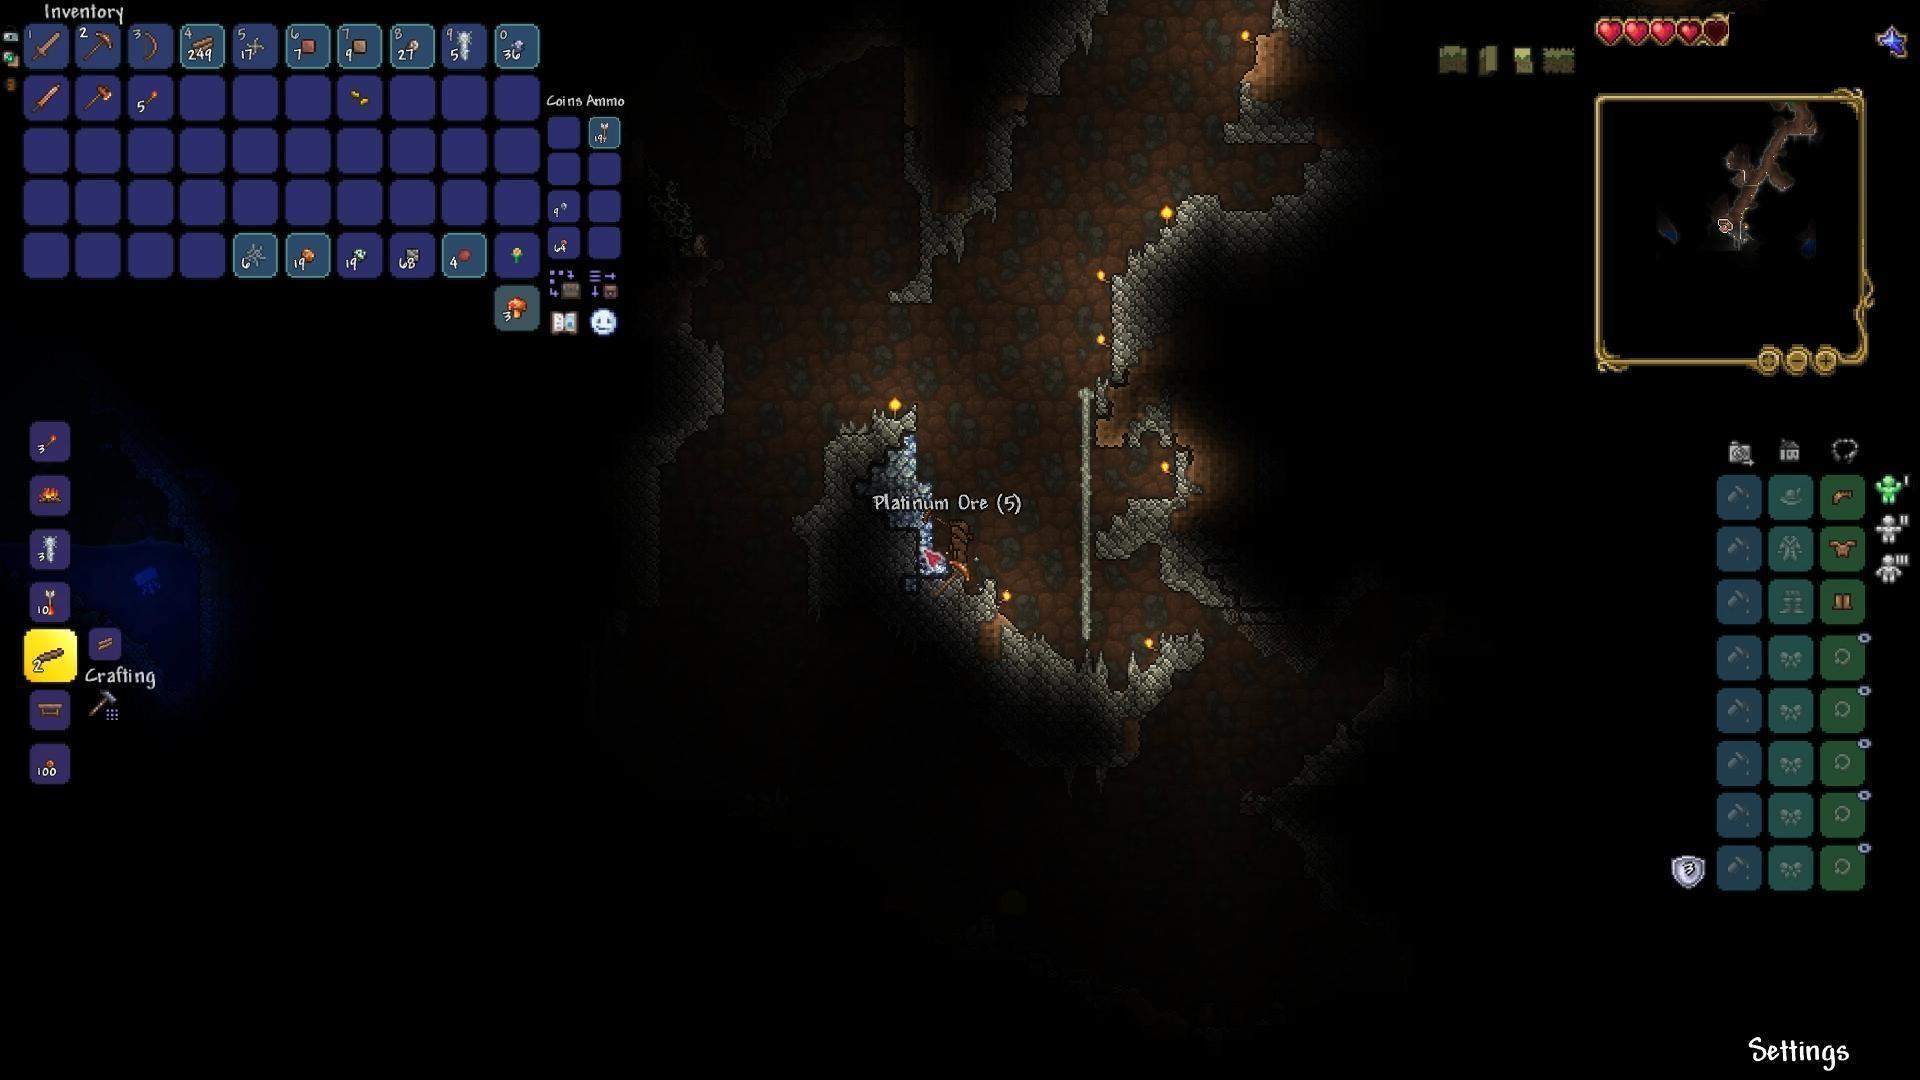heart: (1702, 17, 1733, 51), (1593, 16, 1626, 46), (1676, 15, 1704, 50), (1650, 16, 1676, 49), (1625, 15, 1651, 44)
stone: (1051, 630, 1196, 742), (913, 127, 1030, 211), (881, 228, 967, 320), (1178, 181, 1295, 237), (1095, 493, 1172, 568), (819, 430, 877, 522), (1164, 551, 1240, 612), (1109, 272, 1146, 390), (1217, 113, 1324, 153), (1125, 228, 1207, 278), (1004, 620, 1060, 684), (940, 578, 1000, 636), (688, 335, 724, 422)
